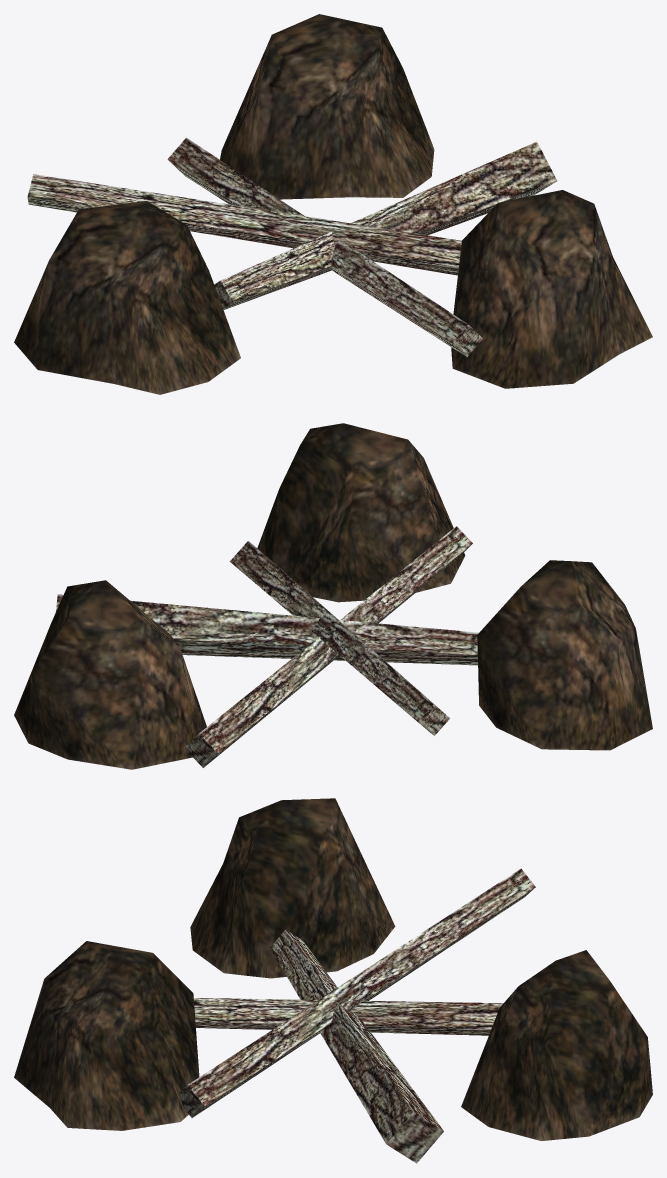
File: hr_ps_fire1.glb
3 views of the same model, one above another, from view 1: azimuth 30°, elevation 25°; view 2: azimuth 150°, elevation 25°; view 3: azimuth 270°, elevation 25° (orthographic). The views are drawn at different scales.
Parts seen in each view (by area): view 1: hr_ps_fire1; view 2: hr_ps_fire1; view 3: hr_ps_fire1.
Part boxes in pixels (box(x1,y1,x2,y2)): hr_ps_fire1: box(14, 14, 652, 394); hr_ps_fire1: box(14, 423, 652, 769); hr_ps_fire1: box(14, 798, 652, 1163).
Bounding box in the file's own units: 1.98 × 0.5153 × 2.02.
Materials: 2 (2 with a texture image).
